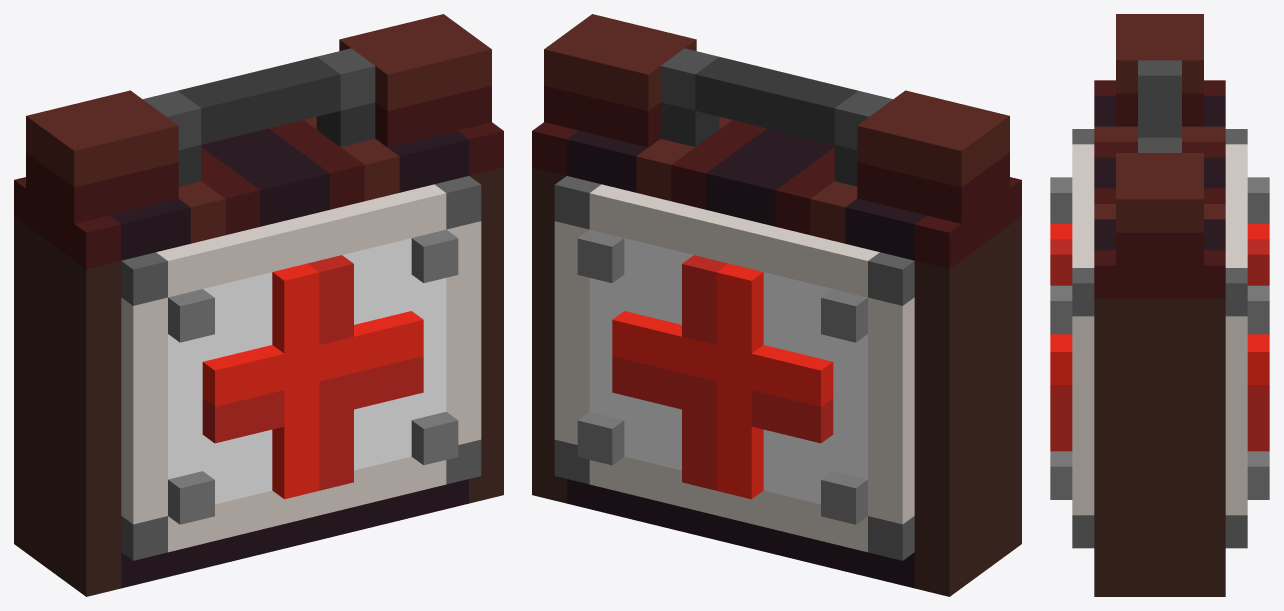
Rendered from Kit_TQF_Toogit.obj.
3 renders of one model, left to right at view 1: azimuth 30°, elevation 25°; view 2: azimuth 150°, elevation 25°; view 3: azimuth 270°, elevation 25°, orthographic. The views are drawn at different scales.
Size of the model in its own units: 12 by 12 by 6.
